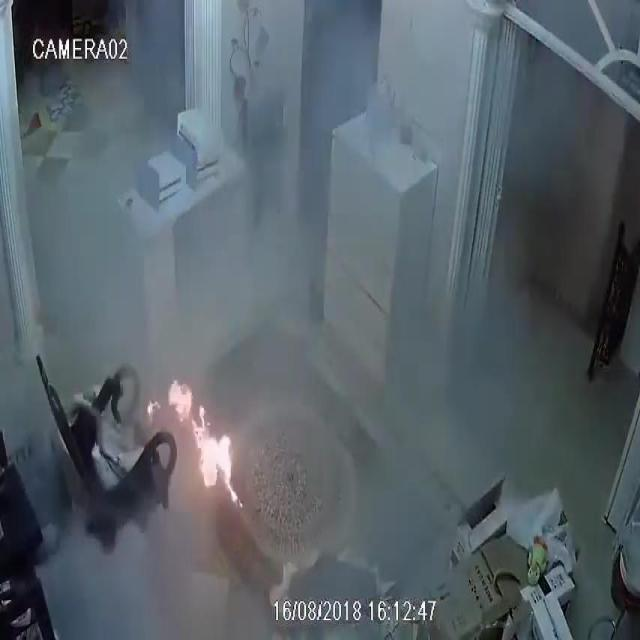fire: (192, 407, 243, 507), (170, 379, 192, 422), (146, 398, 162, 417)
